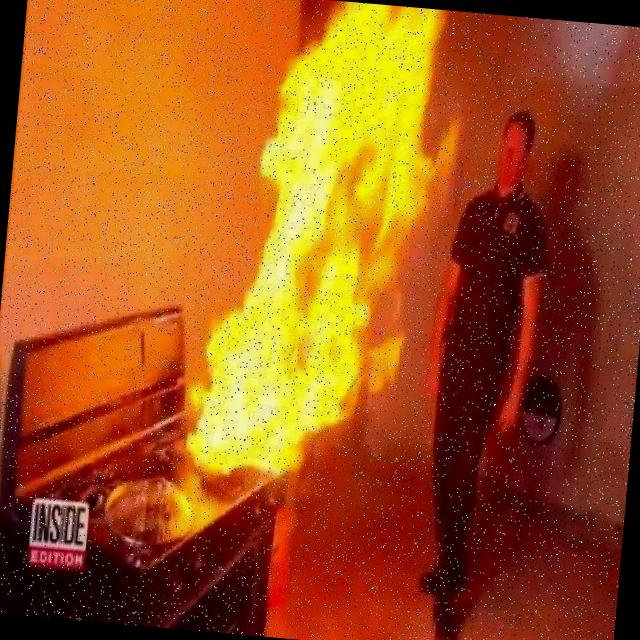fire: (132, 0, 455, 525)
